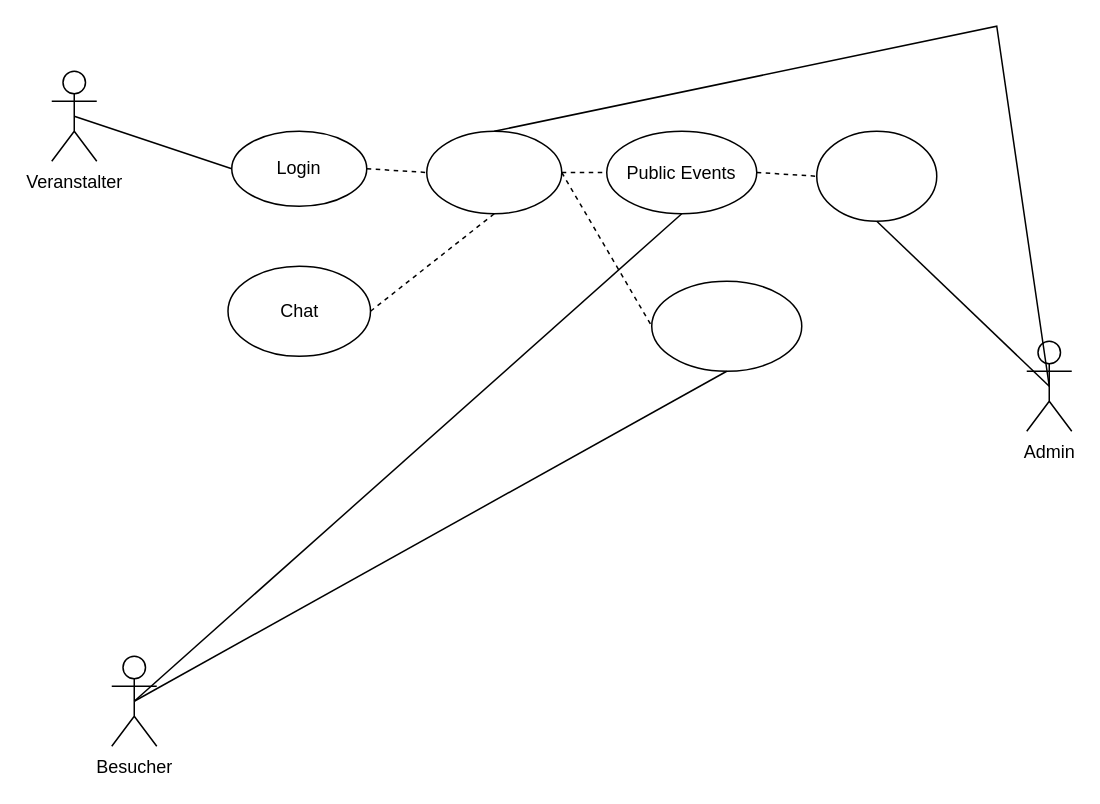
Image size: 1100x804. Some labels were removed from this diagram. The centre of each missing label's shape, as x and y in pixels:
"Events Verwalten / Erstellen" belongs at point (493, 172).
"Restricted Events" belongs at point (726, 325).
"Verifikation" belongs at point (876, 175).
